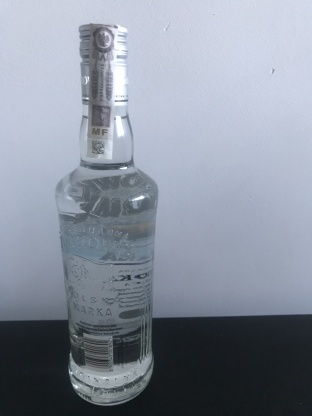nakretka: (75, 19, 130, 109)
